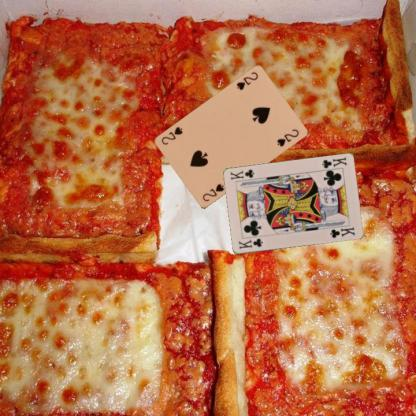2s: (234, 69, 259, 92), (200, 181, 225, 203)
Kc: (319, 155, 348, 170), (236, 236, 263, 250)
